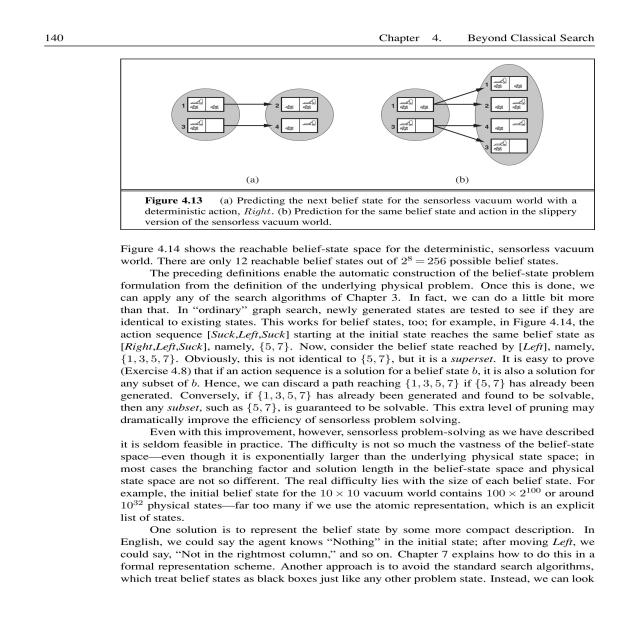diagram: (125, 59, 608, 233)
